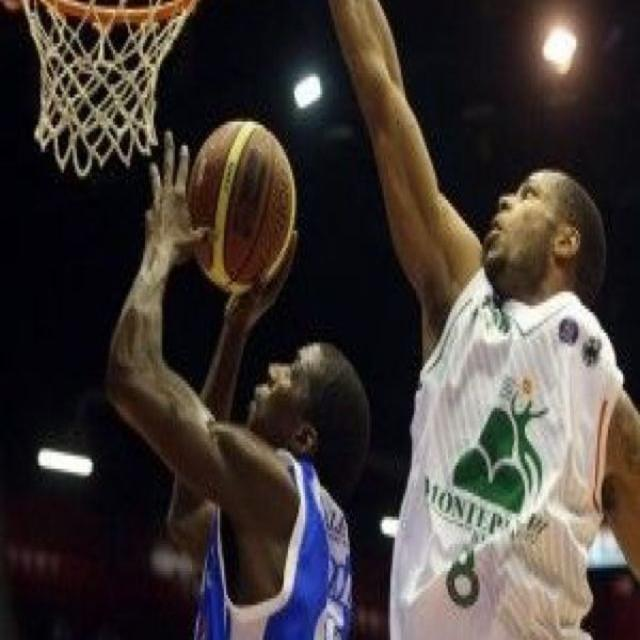Ball: (186, 117, 295, 301)
